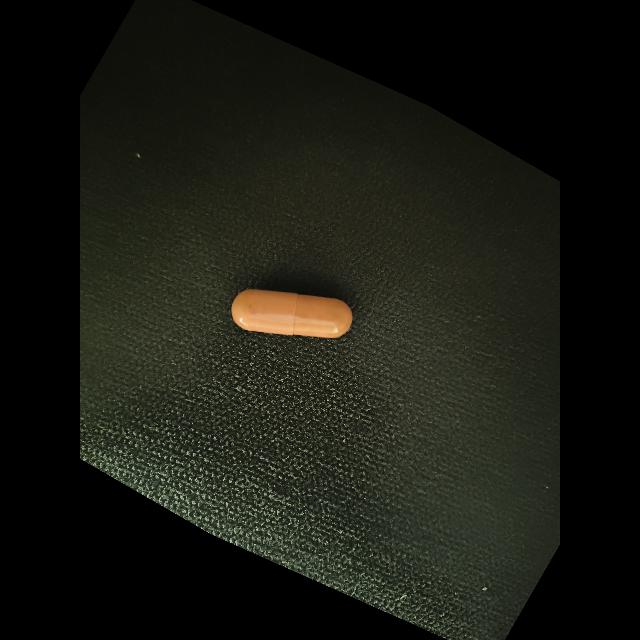Intact Capsule: (231, 289, 352, 338)
